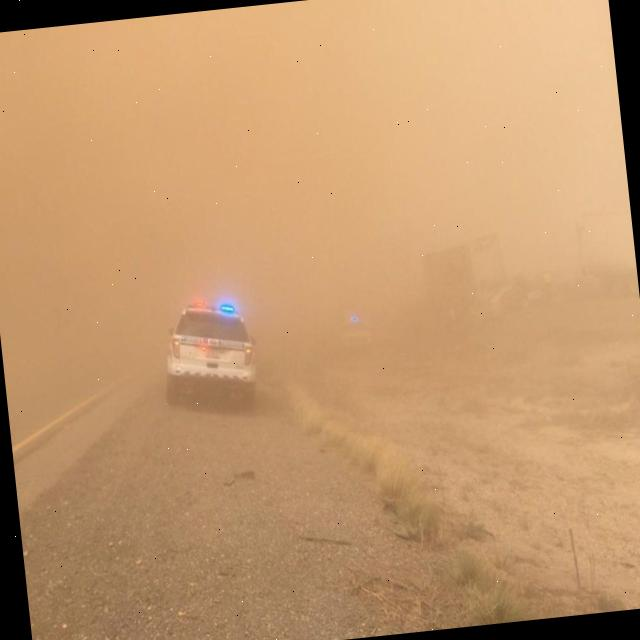car: (158, 294, 262, 416), (336, 306, 374, 352)
